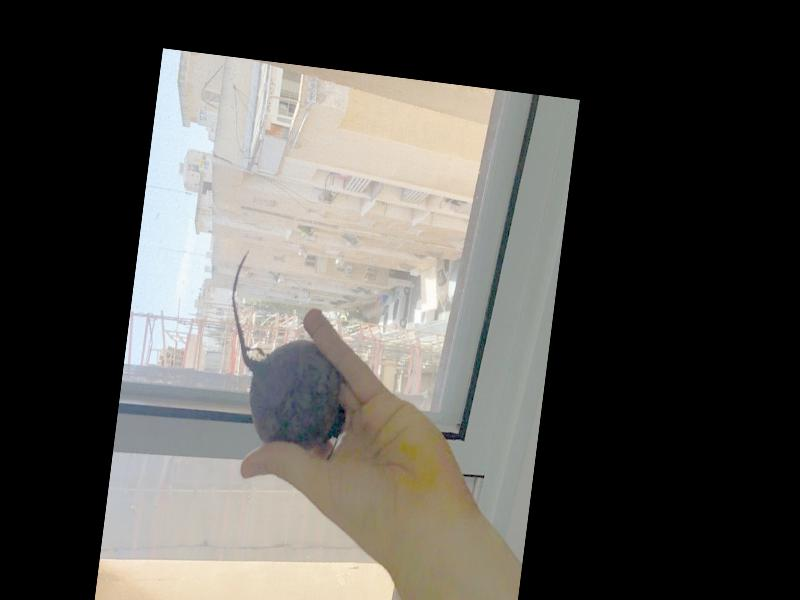Beet: (213, 248, 364, 451)
